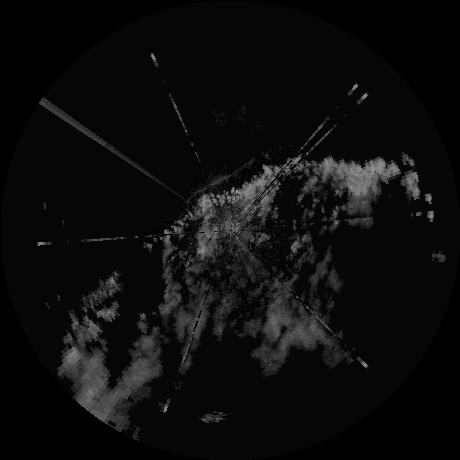frontgust: (186, 157, 256, 202)
